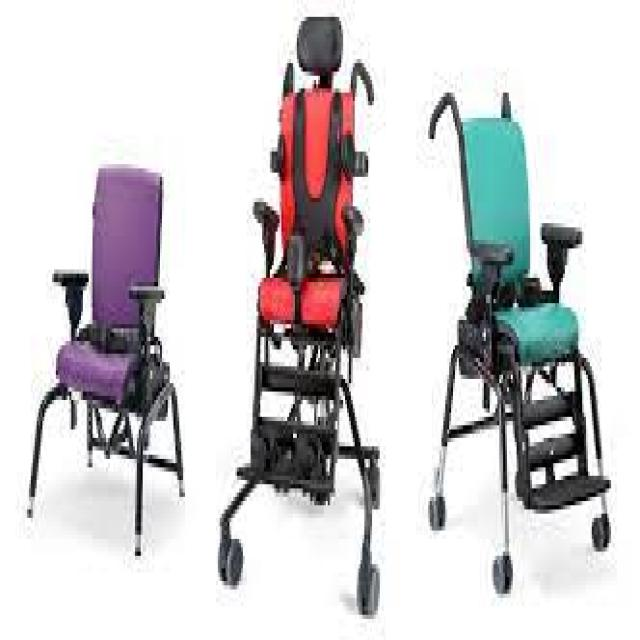chair: (197, 0, 401, 640), (414, 23, 621, 640), (10, 84, 190, 582)
